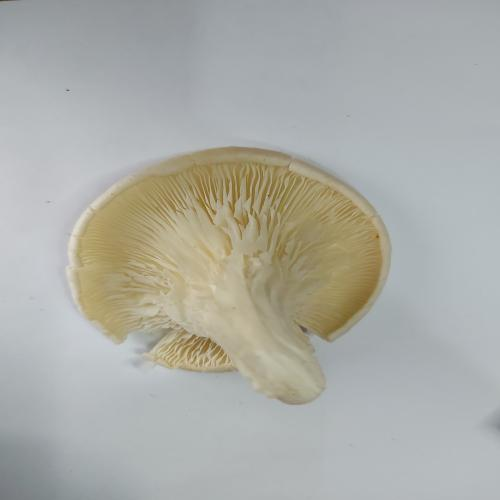Oyster Mushroom: (65, 145, 392, 406)
